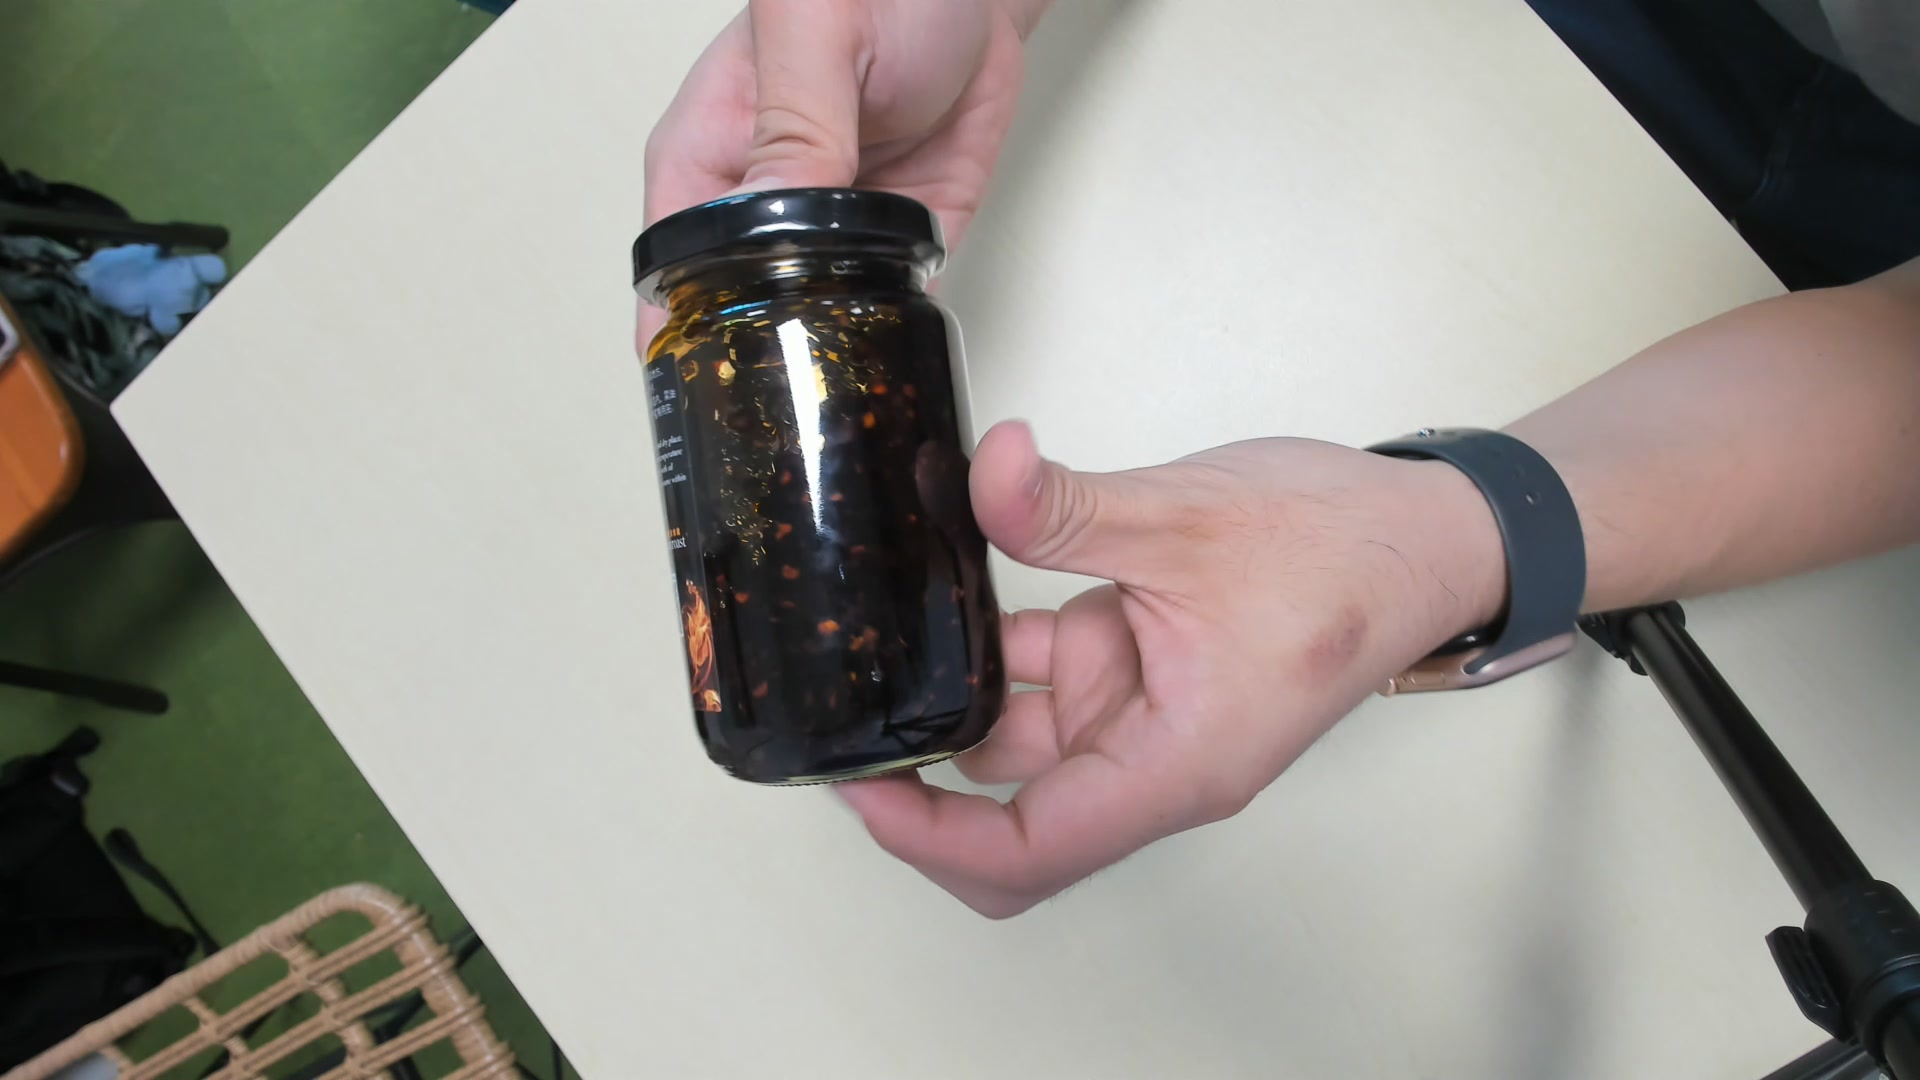OtherSauceDressing_300-399g_NonHalal_NonHealthy: (629, 181, 1009, 785)
